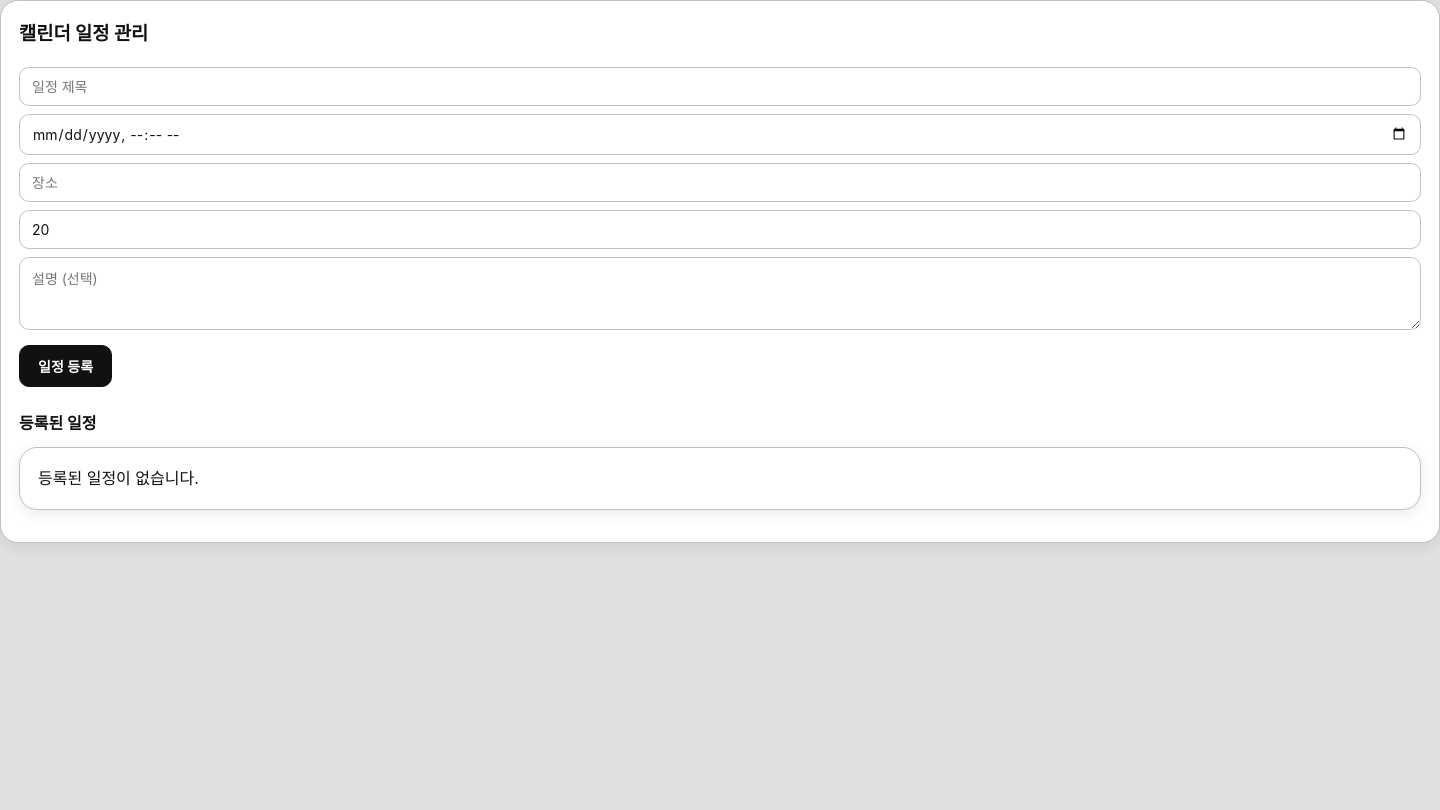
SeminarAdmin › 일정을 등록하고 폼을 초기화한다
Type "쿠킹 클래스" into the field with placeholder "일정 제목" at [720, 86], box [19,67,1421,106]
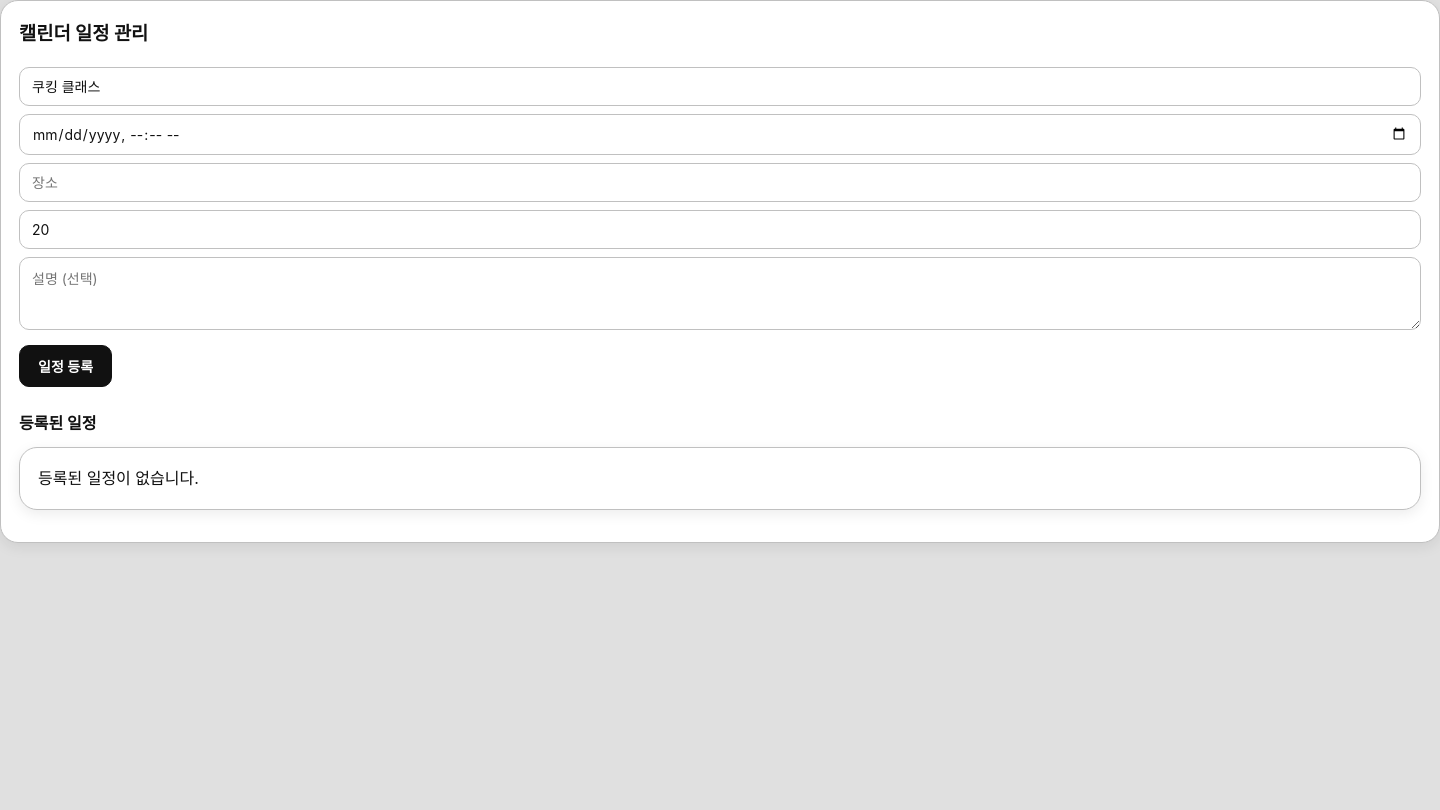
Type "2026-09-20T14:00" into the field named "일정 날짜 및 시간" at [720, 134], box [19,114,1421,155]
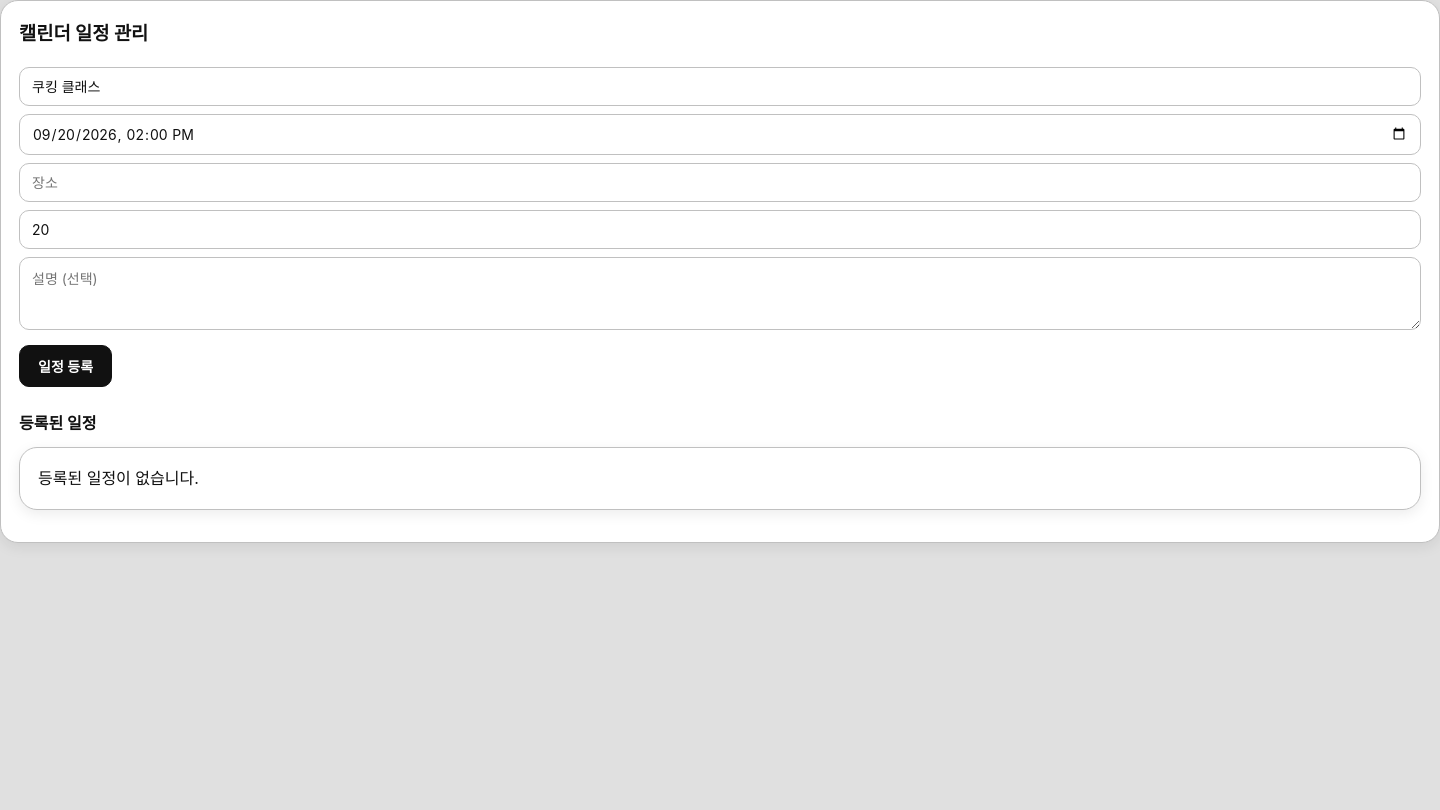
Type "잠실" into the field with placeholder "장소" at [720, 182], box [19,163,1421,202]
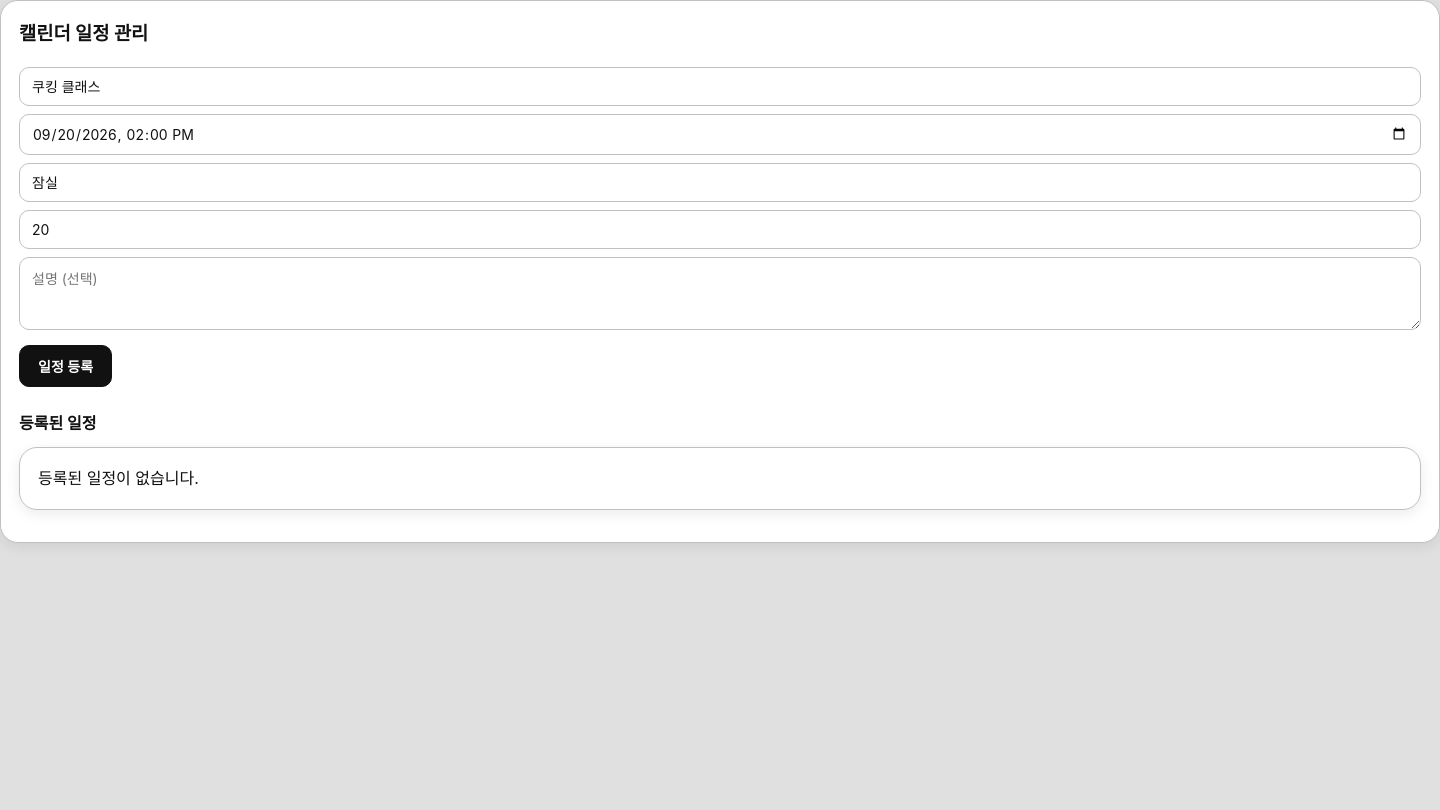
Replace the text in the number field with placeholder "최대 참석자 수" with "0" at [720, 229], box [19,210,1421,249]
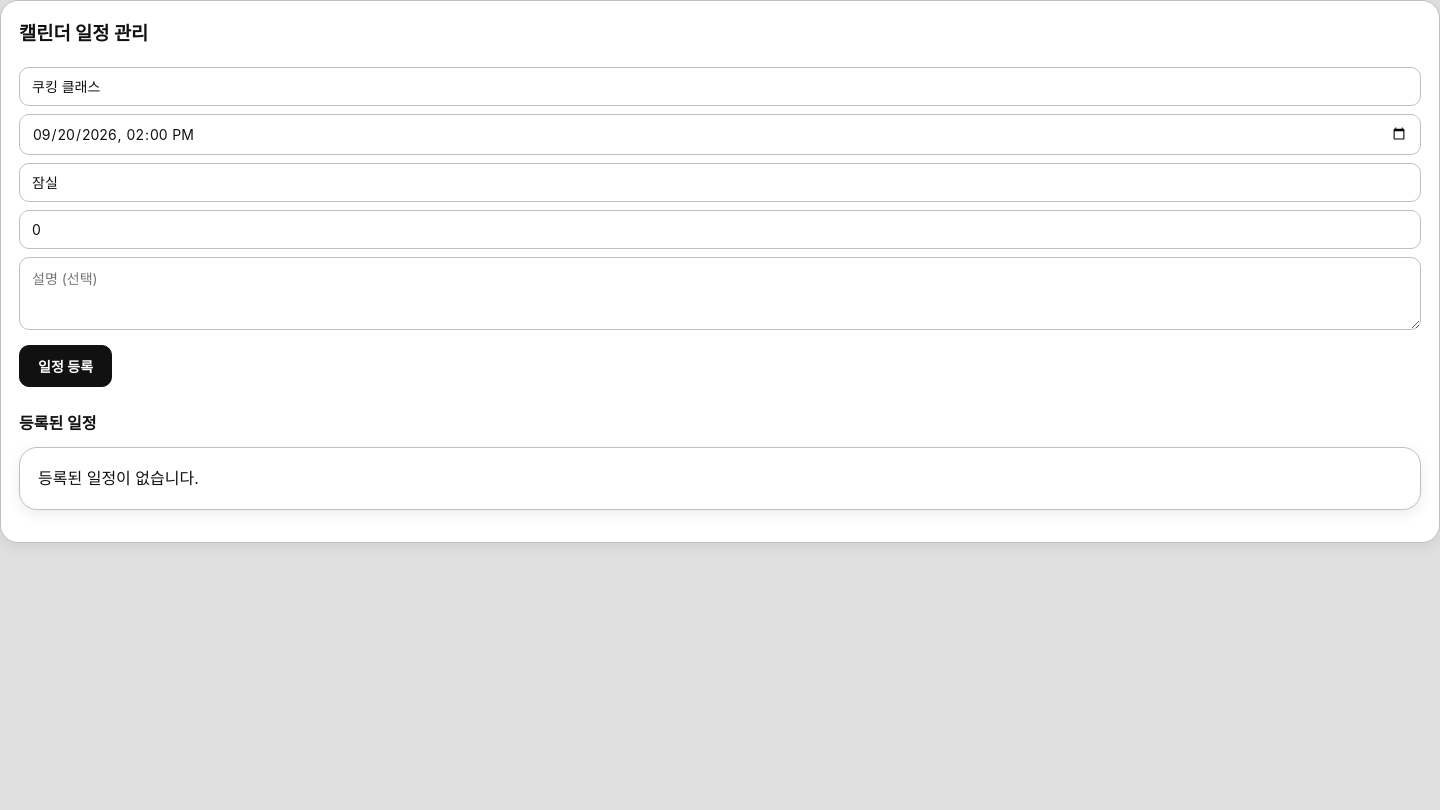
Type "추석 요리" into the text box with placeholder "설명 (선택)" at [720, 293], box [19,257,1421,330]
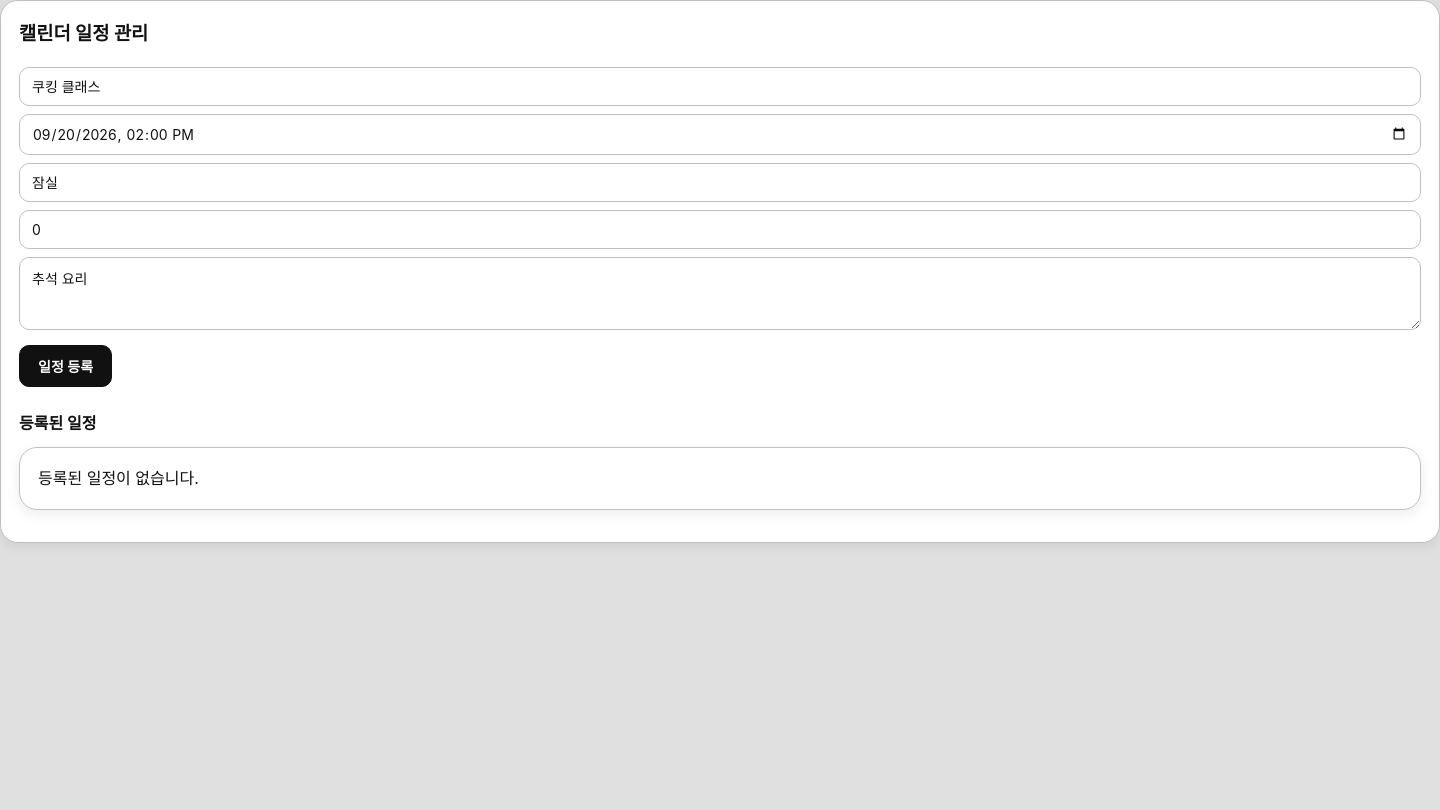
Click the button "일정 등록" at [66, 366], box [19,344,112,386]
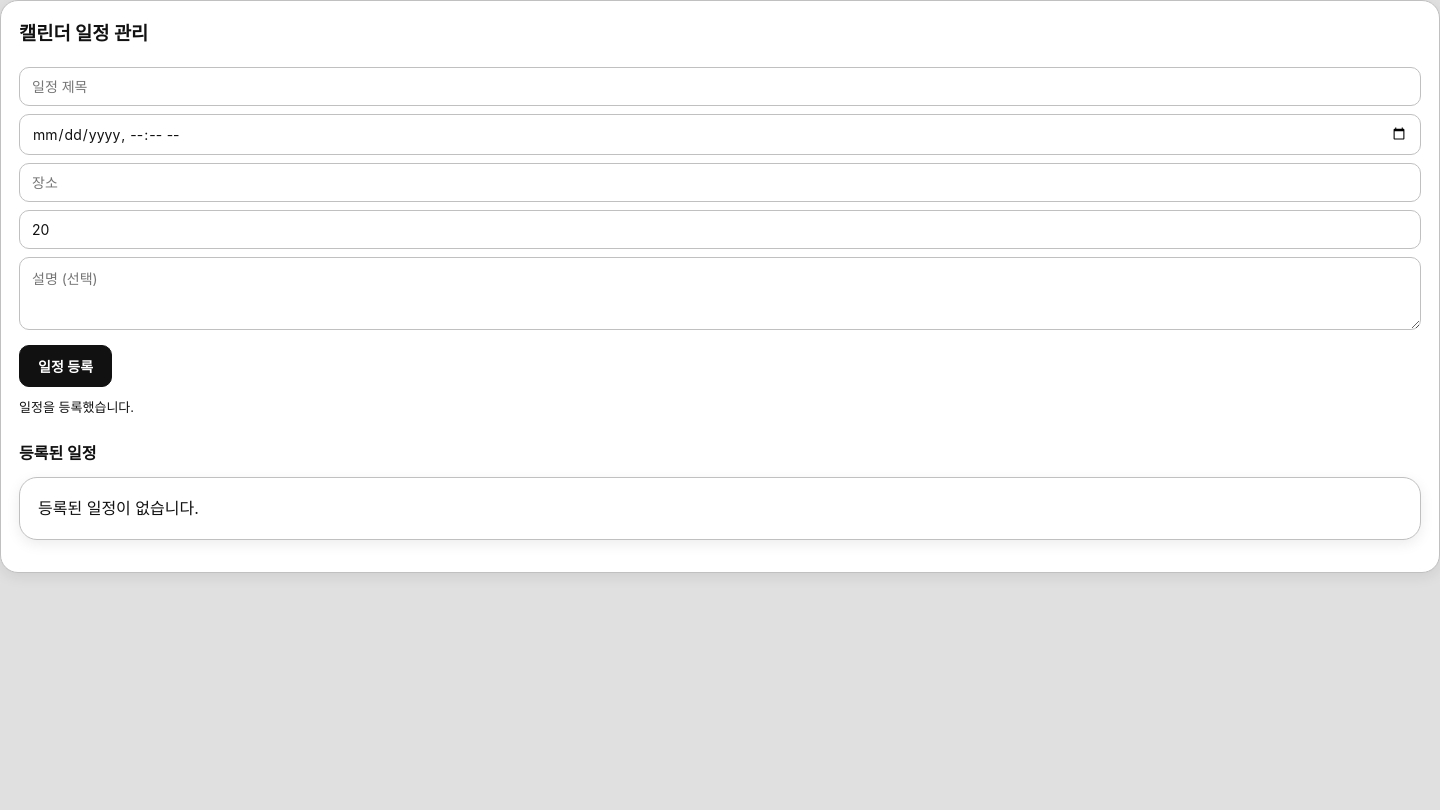
Expected: the text "일정을 등록했습니다." is shown, [19,398,134,414]
Expected: the field with placeholder "일정 제목" is empty, [19,67,1421,106]
